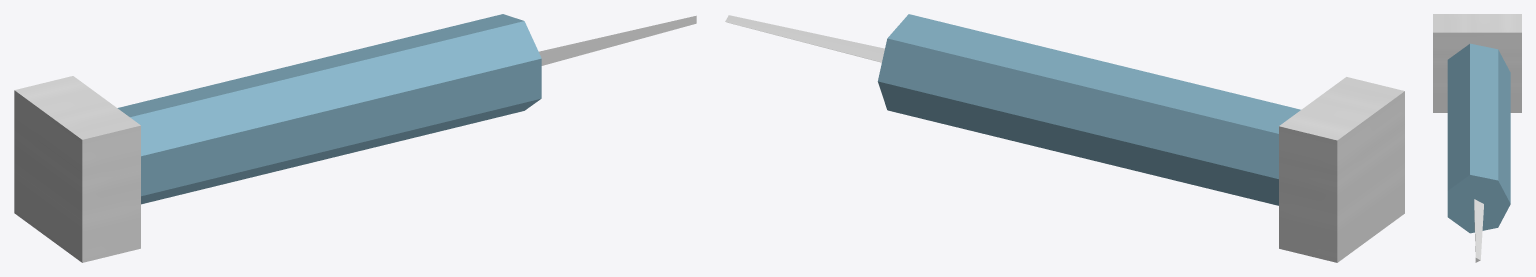
Rendered from drug_syringe.obj.
3 views of the same model, side by side, from view 1: azimuth 30°, elevation 25°; view 2: azimuth 150°, elevation 25°; view 3: azimuth 270°, elevation 25° (orthographic). The views are drawn at different scales.
Visible parts, largest first — view 1: drug_syringe; view 2: drug_syringe; view 3: drug_syringe.
Boxes of the visible parts, bbox=[...] form: drug_syringe: bbox=[14, 14, 696, 262]; drug_syringe: bbox=[725, 14, 1404, 262]; drug_syringe: bbox=[1433, 14, 1521, 262].
Size of the model in its own units: 0.44 by 0.08 by 0.08.
